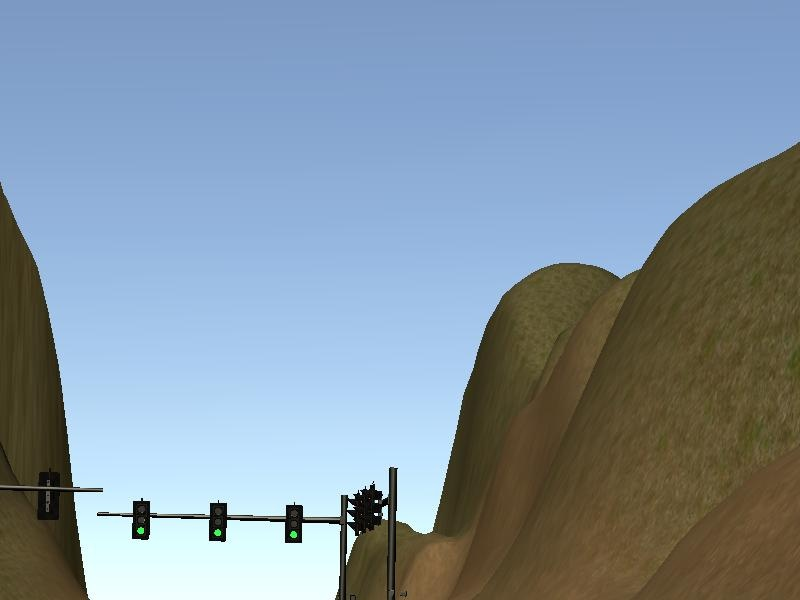green: (131, 501, 150, 538), (285, 505, 302, 541), (209, 502, 224, 542)
